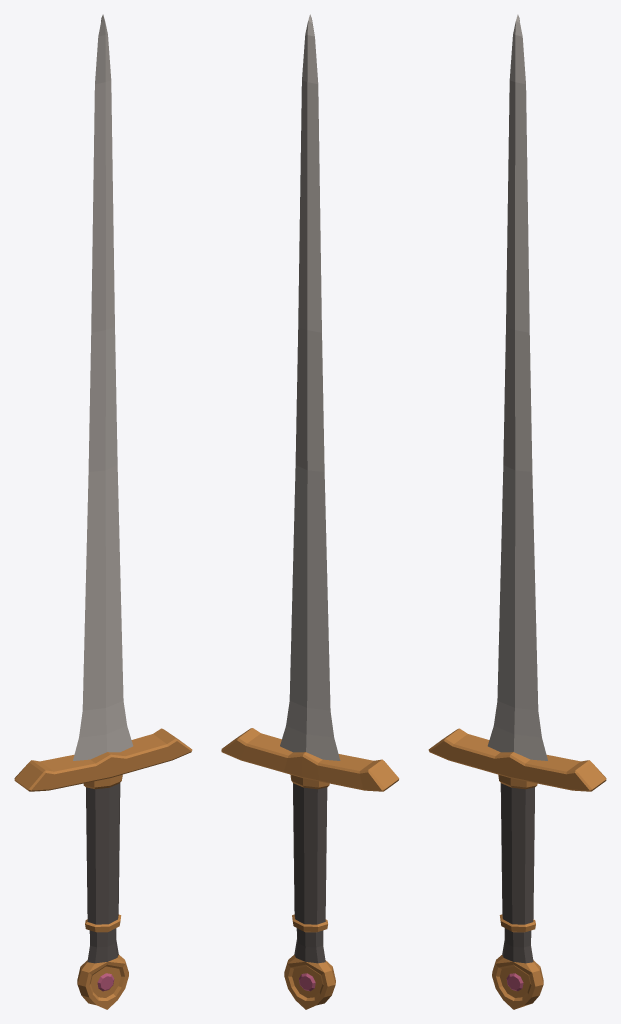
The model's file is SM_pwe_fantasy_sword_04.fbx.
3 renders of one model, left to right at view 1: azimuth 30°, elevation 25°; view 2: azimuth 150°, elevation 25°; view 3: azimuth 330°, elevation 25°, orthographic.
Visible parts, largest first — view 1: SM_pwe_fantasy_sword_04; view 2: SM_pwe_fantasy_sword_04; view 3: SM_pwe_fantasy_sword_04.
Part boxes in pixels (x1,y1,x2,y2): SM_pwe_fantasy_sword_04: (14, 14, 192, 1009); SM_pwe_fantasy_sword_04: (221, 14, 399, 1009); SM_pwe_fantasy_sword_04: (428, 14, 606, 1009).
Bounding box in the file's own units: 22.39 × 130 × 3.96.
